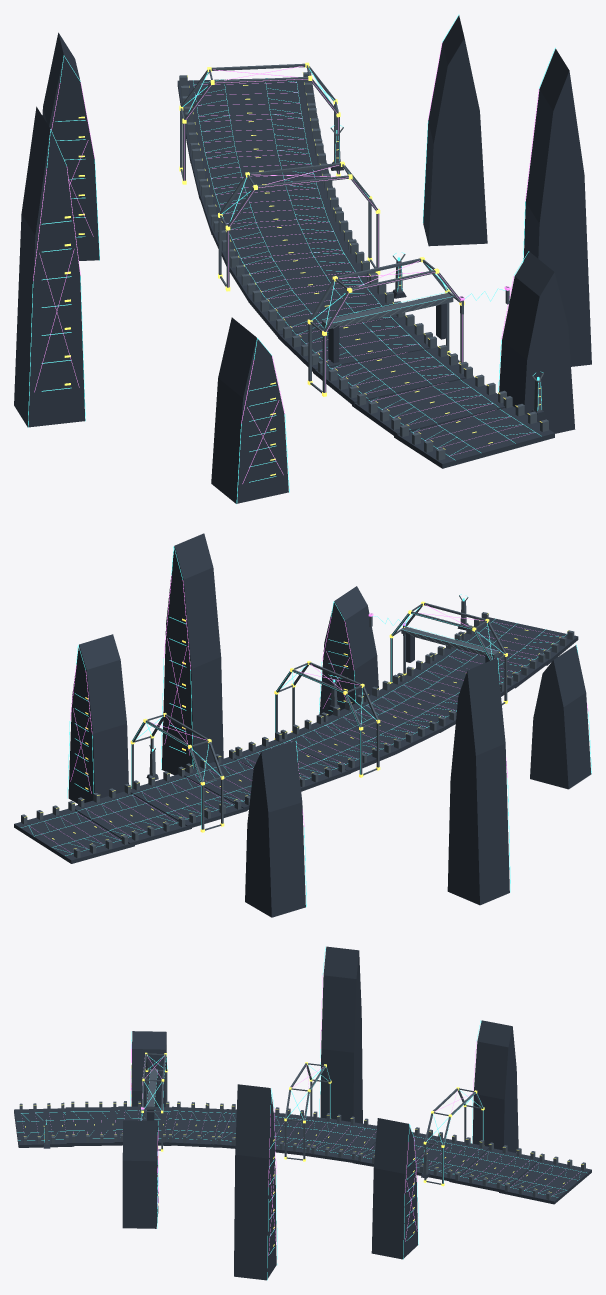
The model's file is route_batch_8.glb.
3 renders of one model, top to bottom at view 1: azimuth 30°, elevation 25°; view 2: azimuth 150°, elevation 25°; view 3: azimuth 270°, elevation 25°, orthographic. The views are drawn at different scales.
Visible parts, largest first — view 1: route_batch_8; view 2: route_batch_8; view 3: route_batch_8.
Part boxes in pixels (x1=…): route_batch_8: x1=14, y1=14, x2=591, y2=504; route_batch_8: x1=14, y1=533, x2=591, y2=917; route_batch_8: x1=14, y1=946, x2=591, y2=1280.
Size of the model in its own units: 459 by 254 by 712.
